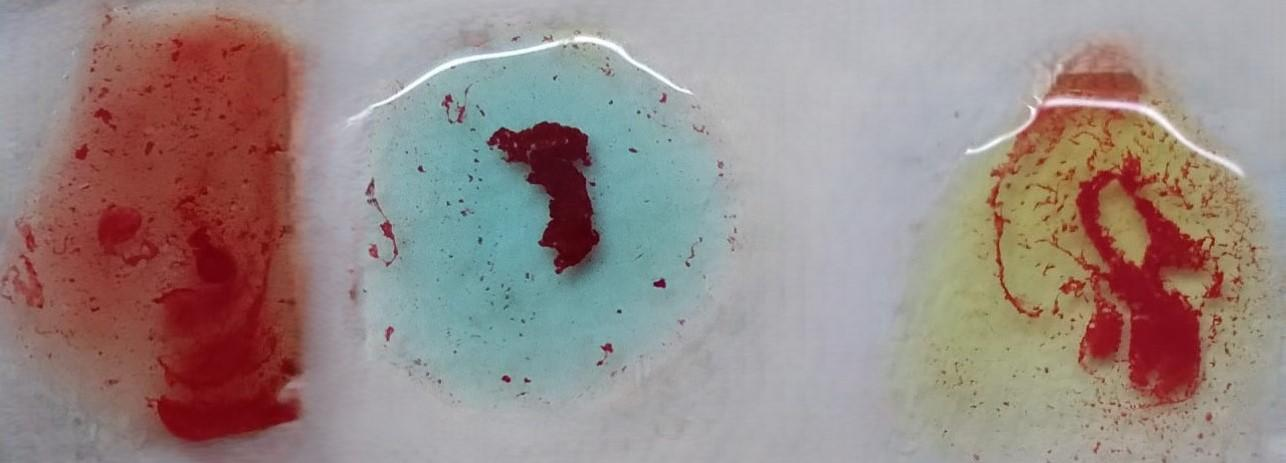A: (373, 41, 714, 397)
B: (933, 45, 1256, 463)
D: (36, 19, 316, 453)
